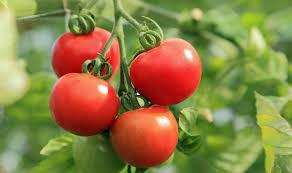tomato: (130, 36, 203, 107), (50, 74, 119, 134), (51, 27, 119, 85), (111, 107, 176, 164)
